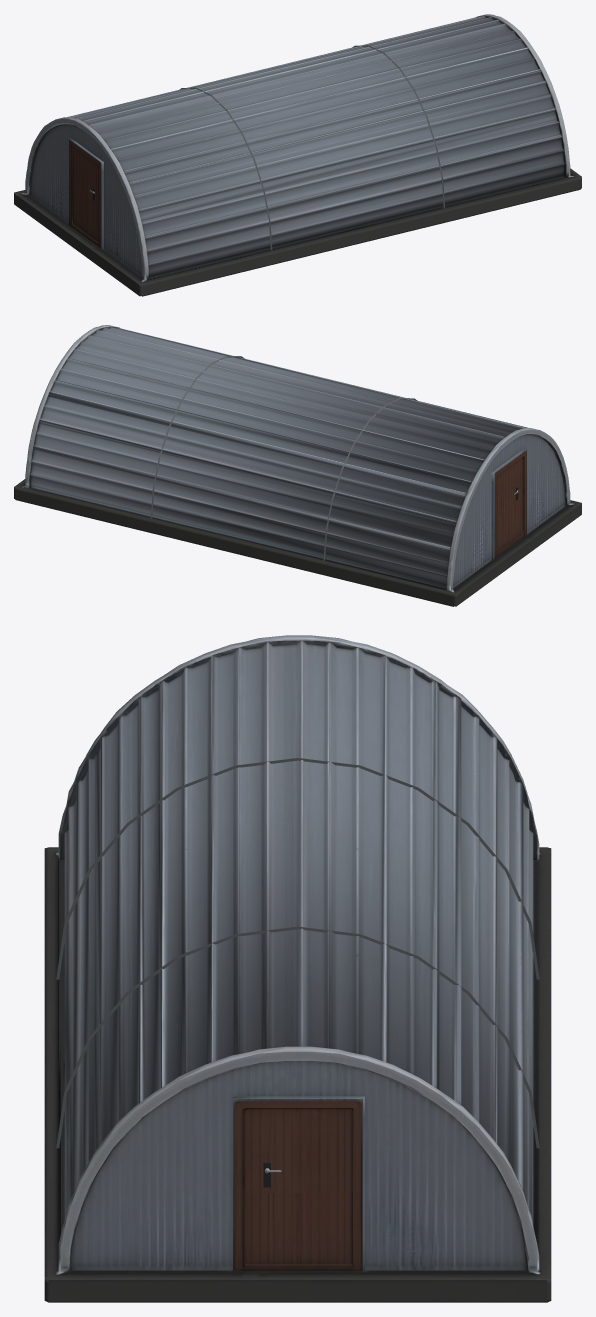
File: nissen-hut-crafted.glb
The picture shows the model from 3 angles, top to bottom: view 1: azimuth 30°, elevation 25°; view 2: azimuth 150°, elevation 25°; view 3: azimuth 270°, elevation 25°; orthographic projection. The views are drawn at different scales.
Parts seen in each view (by area): view 1: tripo_node_ea5ddd22-5a22-4a02-a124-4d909f669928; view 2: tripo_node_ea5ddd22-5a22-4a02-a124-4d909f669928; view 3: tripo_node_ea5ddd22-5a22-4a02-a124-4d909f669928.
Boxes of the visible parts, bbox=[...] form: tripo_node_ea5ddd22-5a22-4a02-a124-4d909f669928: bbox=[14, 14, 581, 296]; tripo_node_ea5ddd22-5a22-4a02-a124-4d909f669928: bbox=[14, 325, 581, 606]; tripo_node_ea5ddd22-5a22-4a02-a124-4d909f669928: bbox=[44, 635, 551, 1302].
Size of the model in its own units: 1 by 0.2646 by 0.4951.
Materials: 1 (1 with a texture image).
